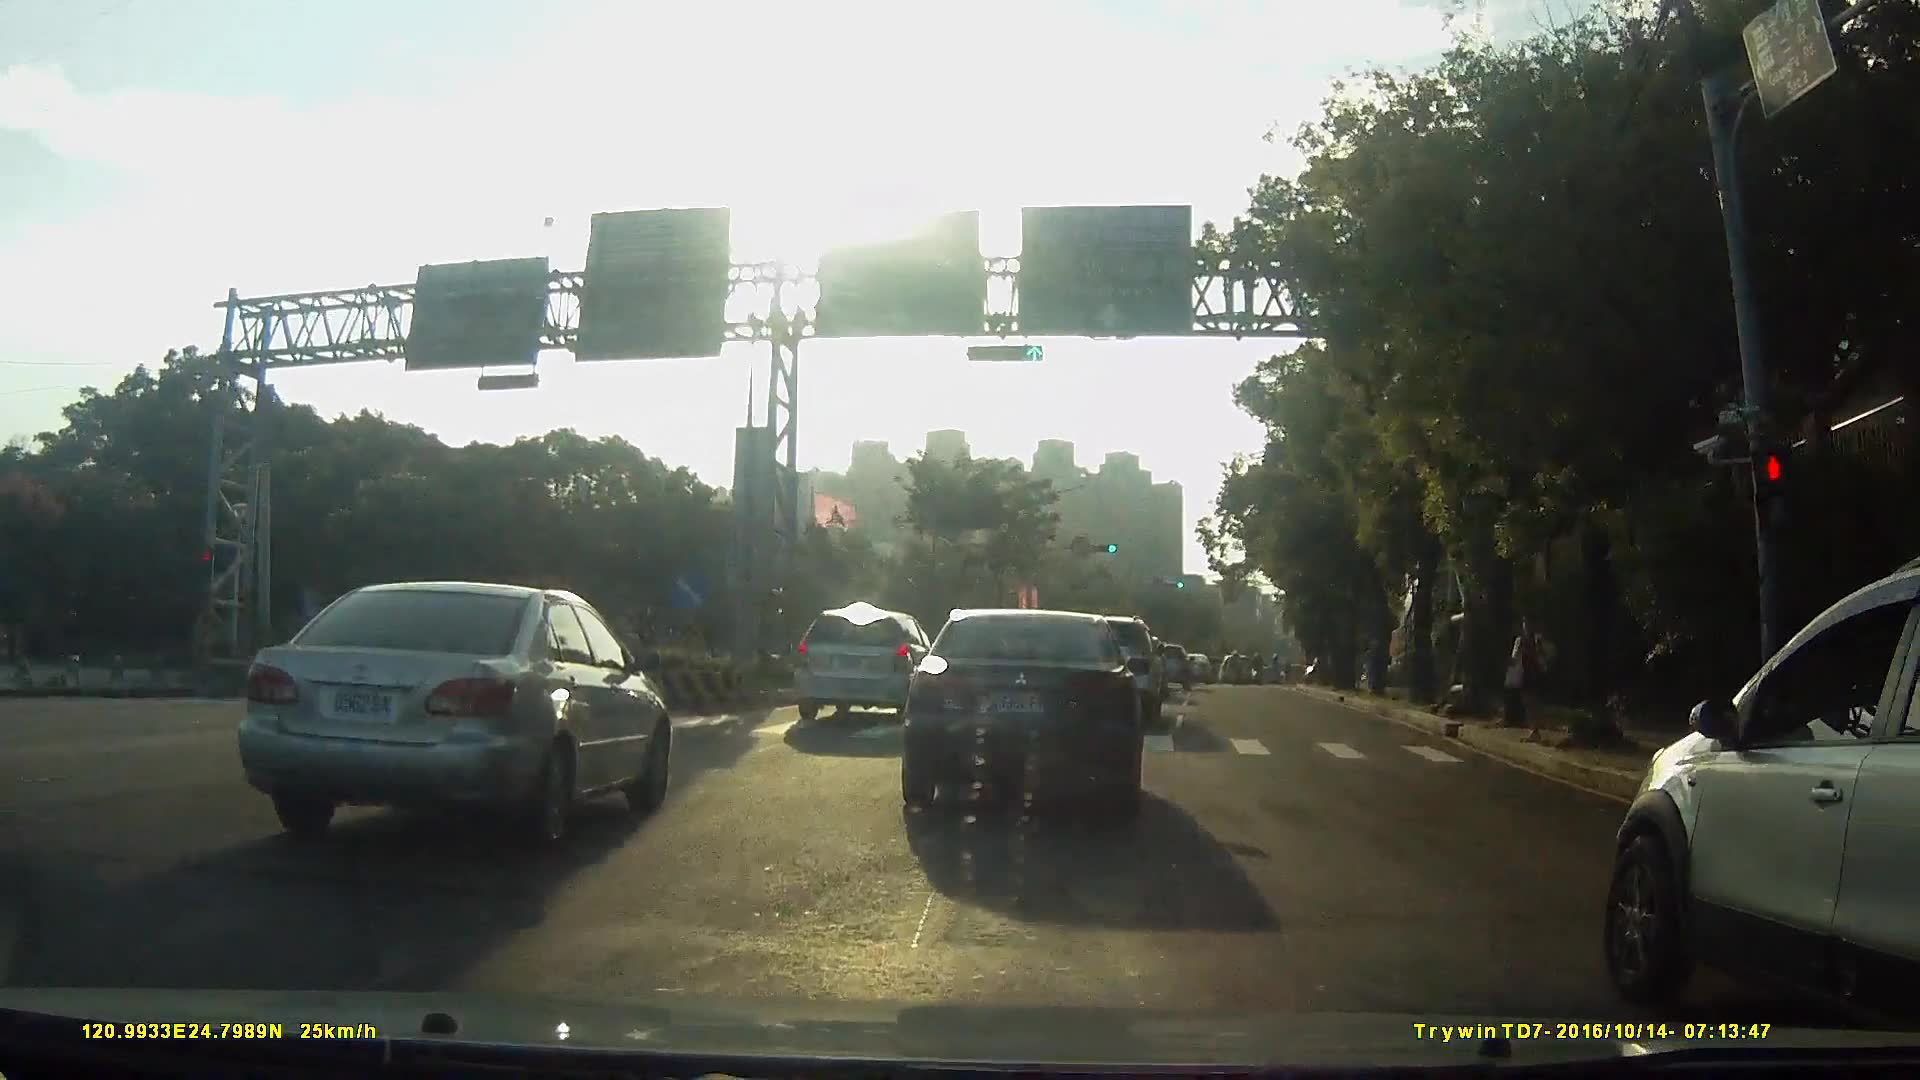pedestrian: (1502, 609, 1561, 740)
vehicle: (1555, 540, 1920, 1065), (216, 574, 683, 850), (882, 603, 1154, 815), (782, 602, 931, 719), (1136, 640, 1185, 689), (1171, 650, 1204, 679)
